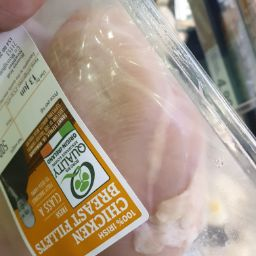Chicken breast: (50, 11, 210, 194)
